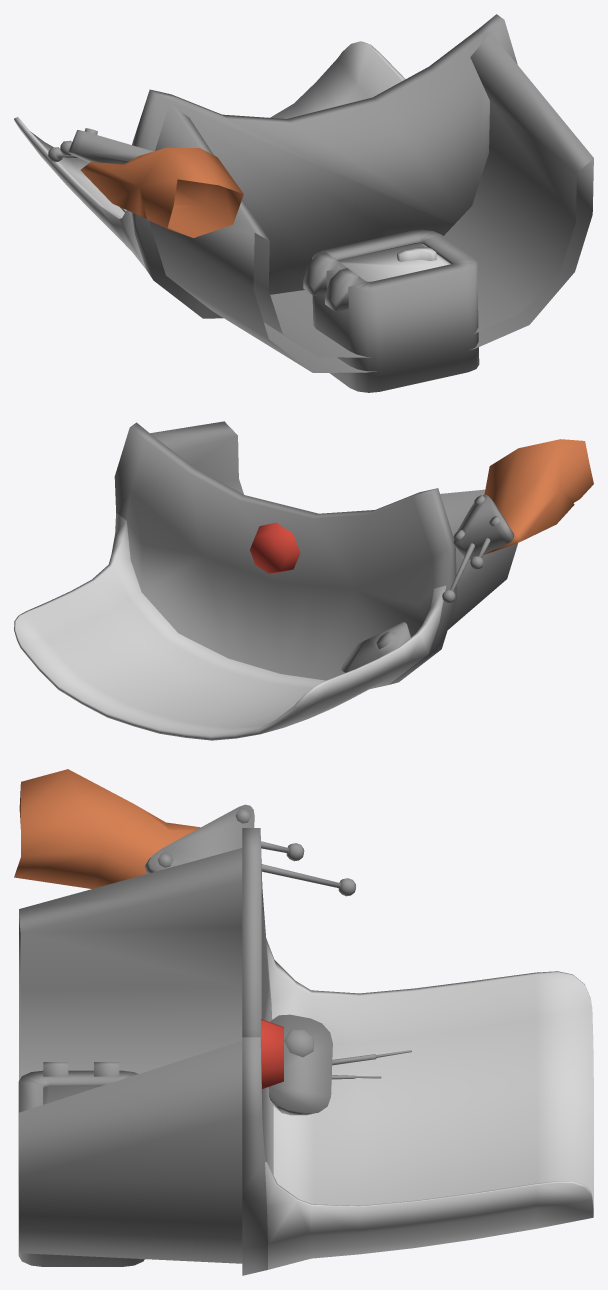
File: Console.fbx
3 renders of one model, top to bottom at view 1: azimuth 30°, elevation 25°; view 2: azimuth 150°, elevation 25°; view 3: azimuth 270°, elevation 25°, orthographic. The views are drawn at different scales.
Parts seen in each view (by area): view 1: Console, Console.002, Electricitydoor; view 2: Console, Console.002, Console.001; view 3: Console, Console.002, Console.001.
Boxes of the visible parts, box(x1,y1,x2,y2) form: Console: box(14, 14, 593, 392); Console.002: box(80, 147, 243, 237); Electricitydoor: box(338, 243, 450, 281); Console: box(14, 421, 517, 740); Console.002: box(483, 439, 593, 554); Console.001: box(250, 522, 300, 573); Console: box(18, 804, 593, 1275); Console.002: box(14, 769, 200, 888); Console.001: box(261, 1019, 283, 1088).
Bounding box in the file's own units: 2.54 × 1.49 × 2.4.
